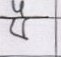ai_matra: (12, 0, 29, 17)
